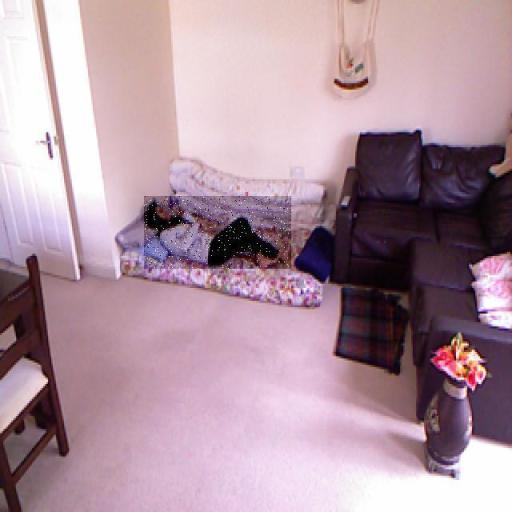Fall: (144, 196, 291, 269)
